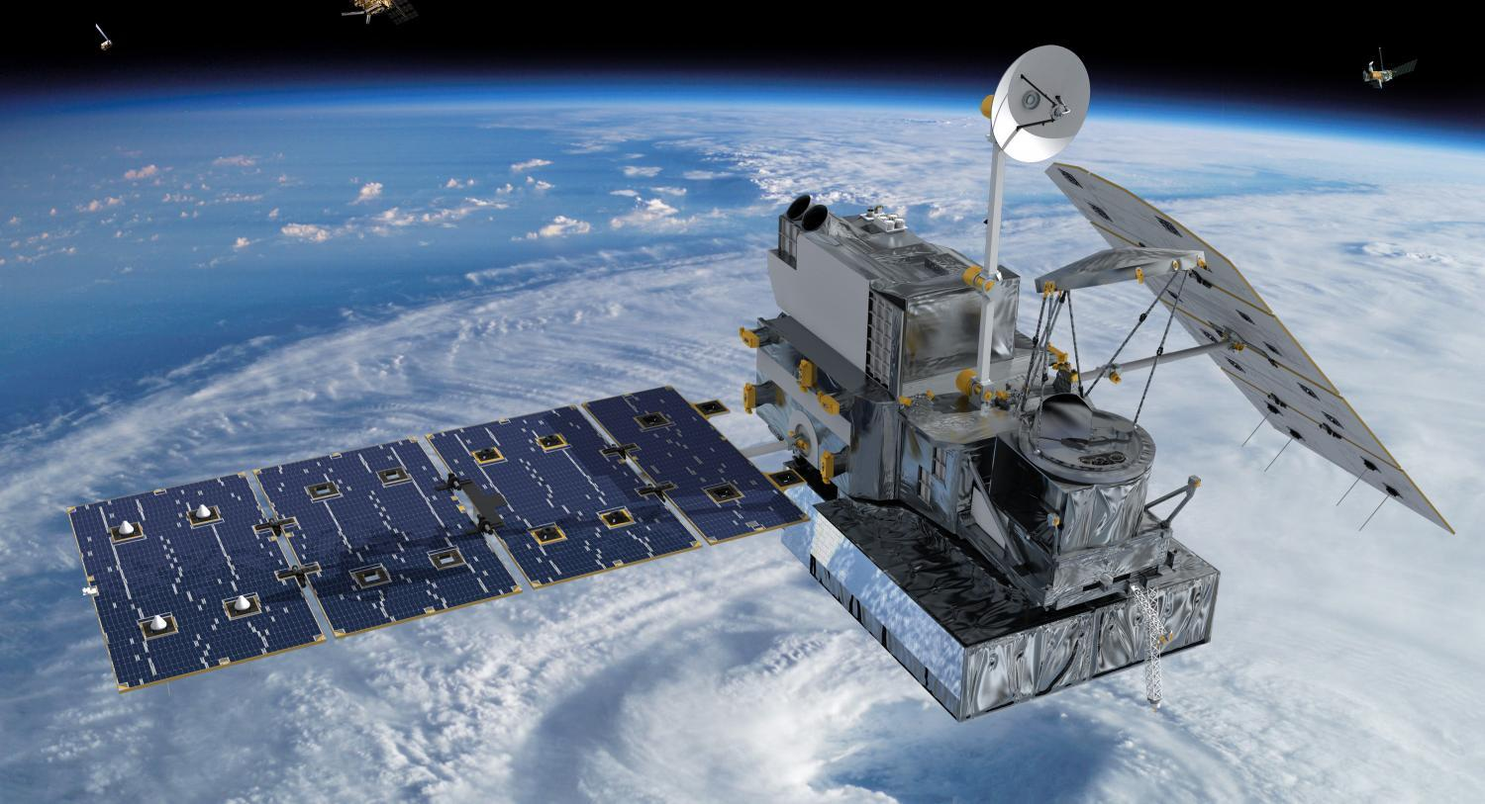antenna: (986, 42, 1093, 165), (1033, 246, 1209, 298), (1145, 685, 1164, 713)
body: (736, 190, 1223, 725), (351, 0, 397, 18), (1369, 69, 1394, 82), (100, 40, 116, 51)
solar: (65, 384, 814, 696), (1042, 160, 1457, 538), (387, 0, 422, 24), (1389, 57, 1421, 79), (94, 23, 110, 42)
thruster: (782, 187, 817, 222), (799, 201, 834, 235)
